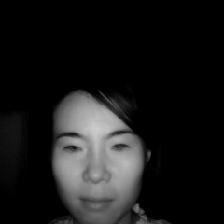normal: (36, 68, 170, 224)
